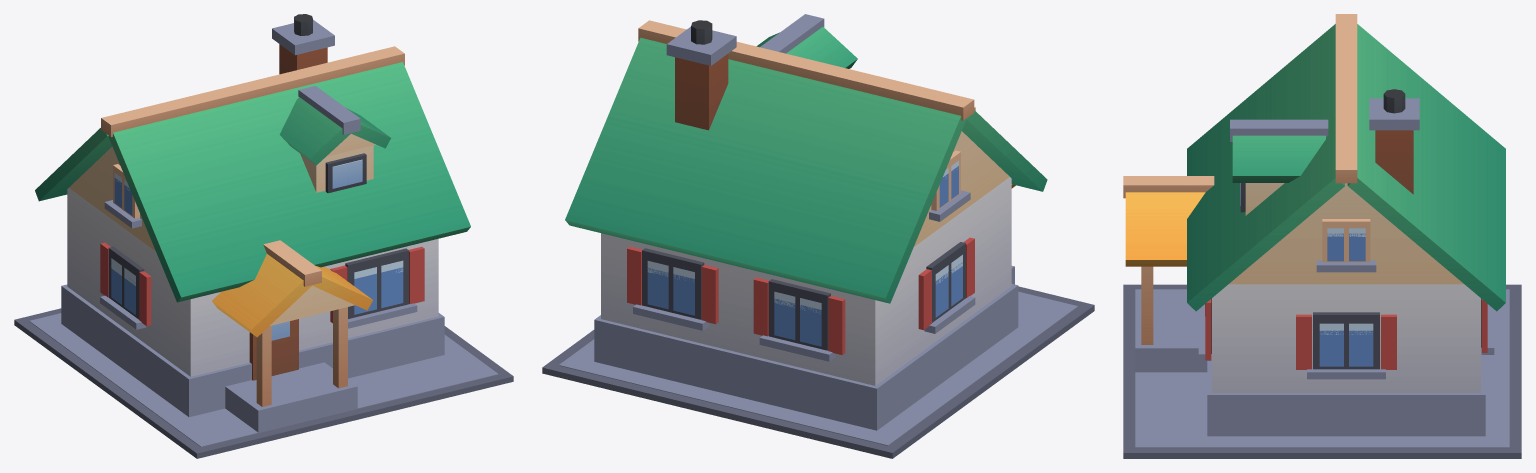
File: res_nordic_cottage_1x1.glb
3 renders of one model, left to right at view 1: azimuth 30°, elevation 25°; view 2: azimuth 150°, elevation 25°; view 3: azimuth 270°, elevation 25°, orthographic. The views are drawn at different scales.
Parts seen in each view (by area): view 1: res_nordic_cottage_1x1; view 2: res_nordic_cottage_1x1; view 3: res_nordic_cottage_1x1.
Part boxes in pixels (x1,y1,x2,y2): res_nordic_cottage_1x1: [14, 14, 513, 458]; res_nordic_cottage_1x1: [542, 14, 1094, 458]; res_nordic_cottage_1x1: [1123, 14, 1521, 458].
Bounding box in the file's own units: 1.66 × 1.47 × 1.66.
Materials: 1 (1 with a texture image).
